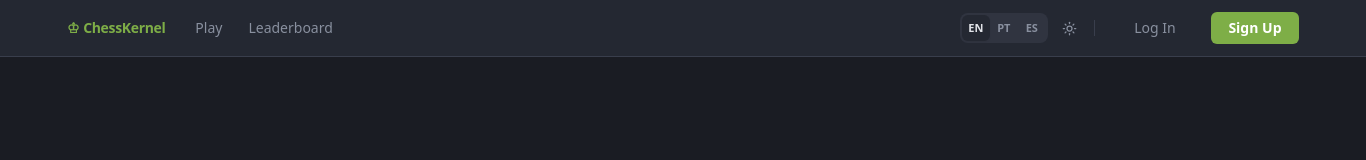
Test case: Navbar › re-renders nav labels after a language switch
Expected: the link "Play" is shown, 195,18 -> 222,37
Click the button "ES": (1032, 28) 1018,15 -> 1046,41
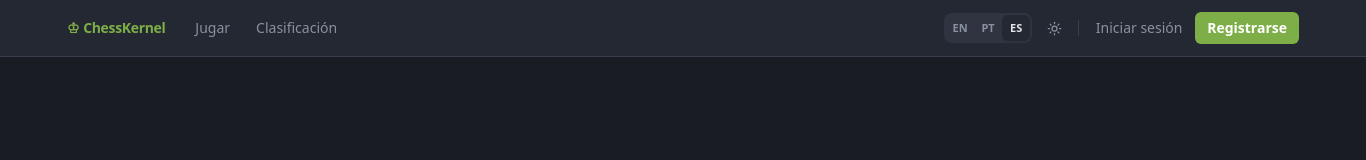
Expected: the link "Jugar" is shown, 195,18 -> 230,37
Expected: the link "Play" is gone
